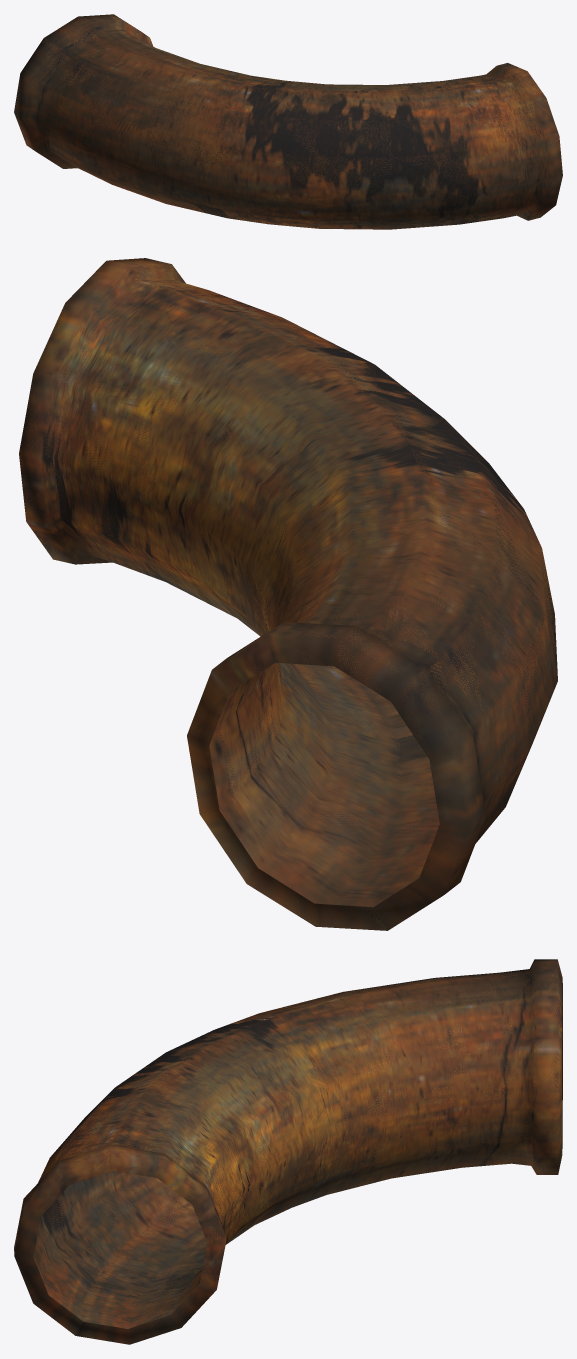
Rendered from Pipe_Corner.fbx.
3 views of the same model, one above another, from view 1: azimuth 30°, elevation 25°; view 2: azimuth 150°, elevation 25°; view 3: azimuth 270°, elevation 25° (orthographic). The views are drawn at different scales.
Visible parts, largest first — view 1: Pipe_Corner; view 2: Pipe_Corner; view 3: Pipe_Corner.
Boxes of the visible parts, x1=… form: Pipe_Corner: x1=14, y1=14, x2=562, y2=229; Pipe_Corner: x1=19, y1=258, x2=557, y2=930; Pipe_Corner: x1=14, y1=959, x2=562, y2=1344.
Bounding box in the file's own units: 60.12 × 24.19 × 60.86.
